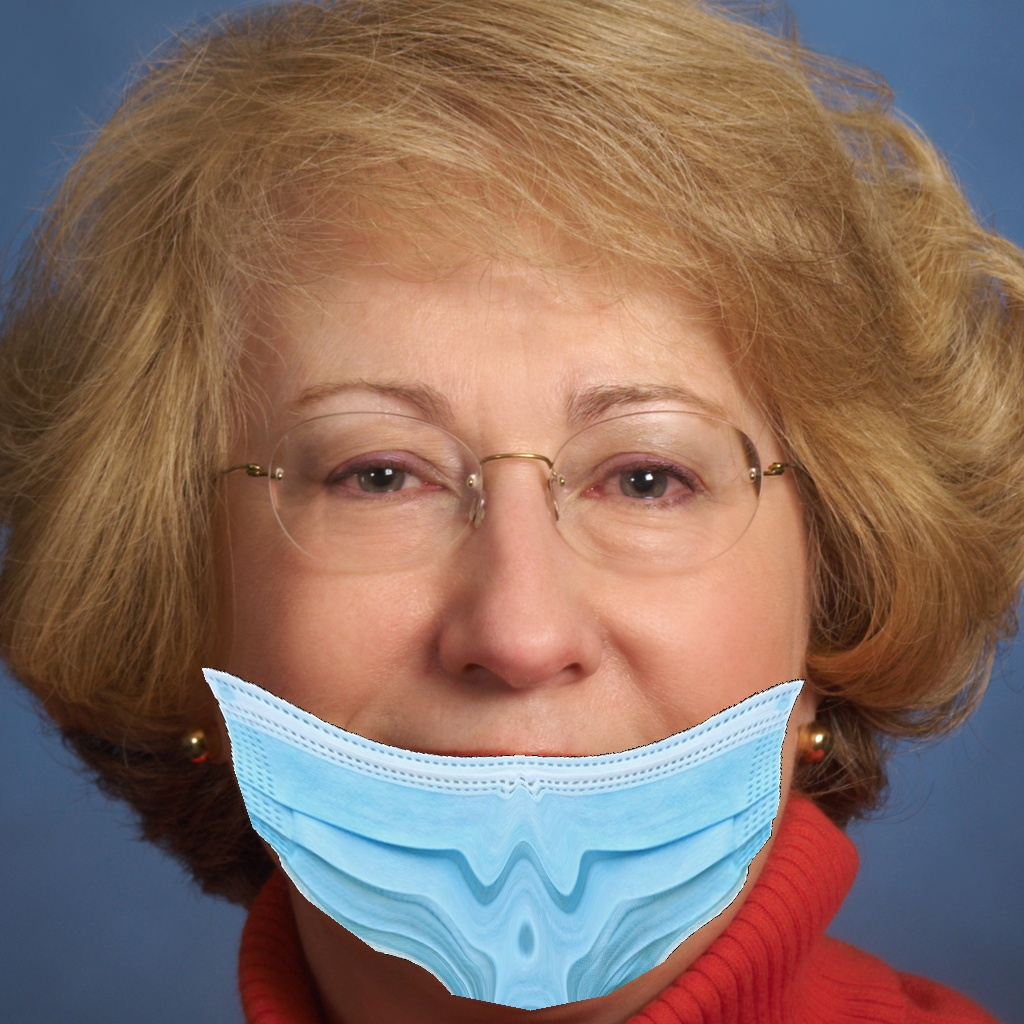Mask_Mouth_Chin: (203, 386, 807, 1010)
